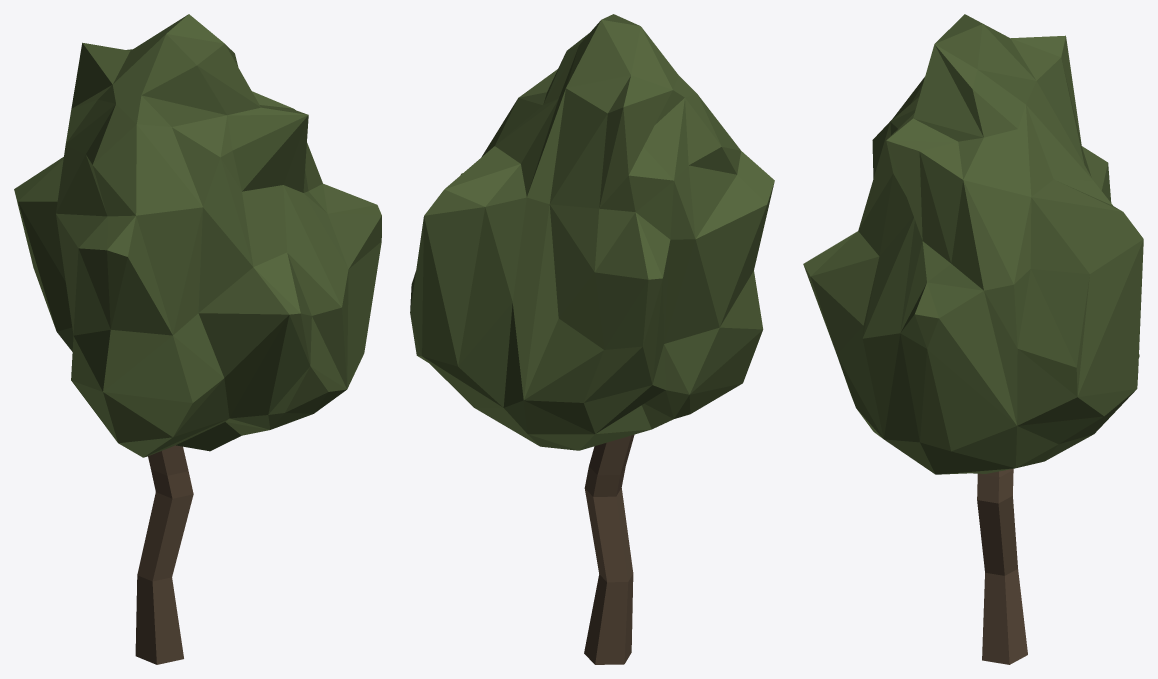
File: Tree_057.fbx
3 views of the same model, side by side, from view 1: azimuth 30°, elevation 25°; view 2: azimuth 150°, elevation 25°; view 3: azimuth 270°, elevation 25° (orthographic). The views are drawn at different scales.
Visible parts, largest first — view 1: Tree_057; view 2: Tree_057; view 3: Tree_057.
Boxes of the visible parts, x1=… form: Tree_057: x1=14, y1=14, x2=381, y2=664; Tree_057: x1=410, y1=14, x2=774, y2=664; Tree_057: x1=803, y1=14, x2=1143, y2=664.
Bounding box in the file's own units: 0.5801 × 1.16 × 0.561.
Materials: 1 (1 with a texture image).
